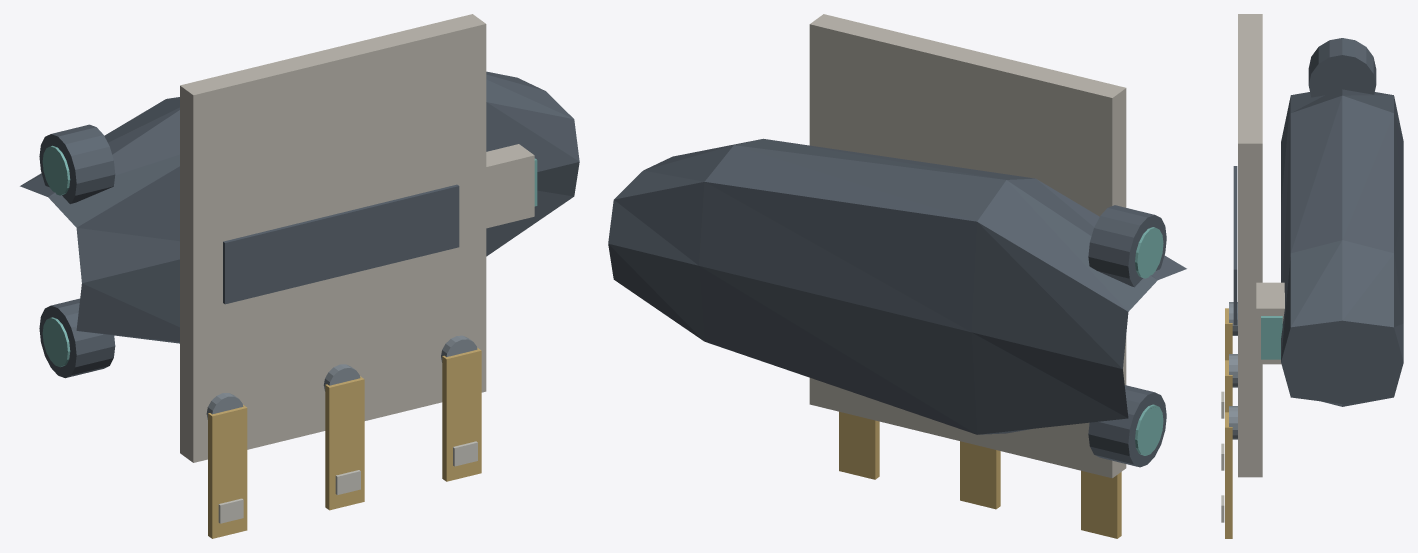
File: 01_latch_nine.glb
The picture shows the model from 3 angles, left to right: view 1: azimuth 30°, elevation 25°; view 2: azimuth 150°, elevation 25°; view 3: azimuth 270°, elevation 25°; orthographic projection. The views are drawn at different scales.
Visible parts, largest first — view 1: part_002, HULL_001, part_018, part_004, part_007, part_010, part_012, part_016, part_014, part_017, part_015; view 2: HULL_001, part_002, part_016, part_014, part_004, part_007, part_010, part_015, part_017; view 3: HULL_001, part_002, part_016, part_012, part_010, part_013, part_018, part_004, part_007, part_006, part_009.
Boxes of the visible parts, bbox=[...] form: part_002: bbox=[180, 14, 486, 462]; HULL_001: bbox=[20, 71, 579, 343]; part_018: bbox=[223, 184, 459, 304]; part_004: bbox=[208, 405, 247, 538]; part_007: bbox=[325, 376, 364, 510]; part_010: bbox=[442, 348, 481, 481]; part_012: bbox=[486, 144, 534, 228]; part_016: bbox=[39, 124, 115, 204]; part_014: bbox=[39, 298, 115, 378]; part_017: bbox=[42, 145, 70, 195]; part_015: bbox=[42, 317, 70, 367]; HULL_001: bbox=[608, 138, 1186, 434]; part_002: bbox=[809, 14, 1126, 478]; part_016: bbox=[1088, 205, 1166, 287]; part_014: bbox=[1088, 385, 1166, 467]; part_004: bbox=[1081, 470, 1121, 538]; part_007: bbox=[960, 441, 1000, 509]; part_010: bbox=[839, 411, 879, 479]; part_015: bbox=[1135, 404, 1163, 455]; part_017: bbox=[1135, 227, 1163, 278]; HULL_001: bbox=[1281, 89, 1403, 406]; part_002: bbox=[1238, 14, 1262, 477]; part_016: bbox=[1308, 38, 1376, 97]; part_012: bbox=[1256, 282, 1284, 364]; part_010: bbox=[1225, 412, 1232, 538]; part_013: bbox=[1261, 316, 1282, 359]; part_018: bbox=[1233, 166, 1237, 325]; part_004: bbox=[1225, 308, 1232, 360]; part_007: bbox=[1225, 360, 1232, 412]; part_006: bbox=[1229, 354, 1237, 387]; part_009: bbox=[1229, 406, 1237, 439].
Bounding box in the file's own units: 17 × 14.4 × 5.95.
